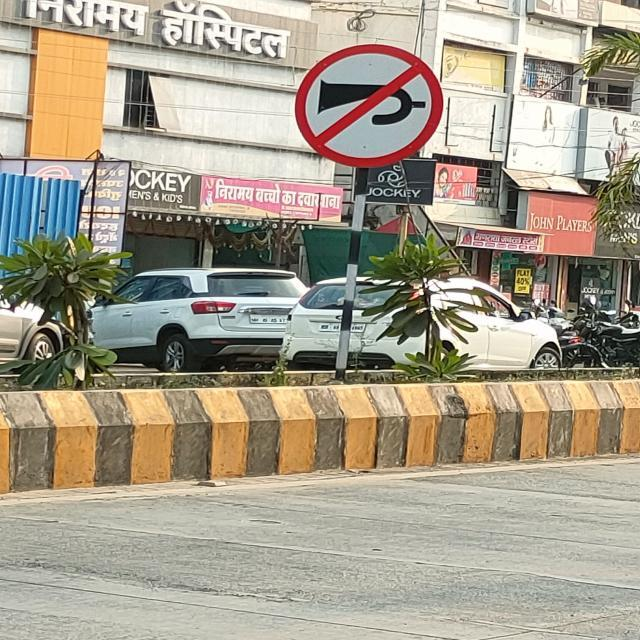horn prohibited: (294, 41, 442, 170)
